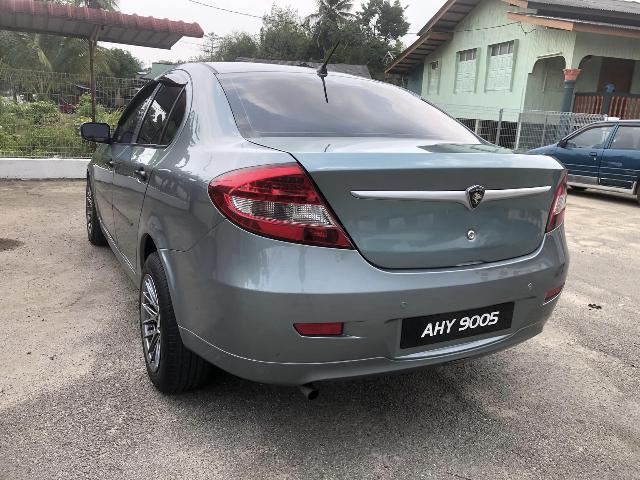License_Plate: (415, 302, 505, 360)
car: (76, 58, 572, 404)
